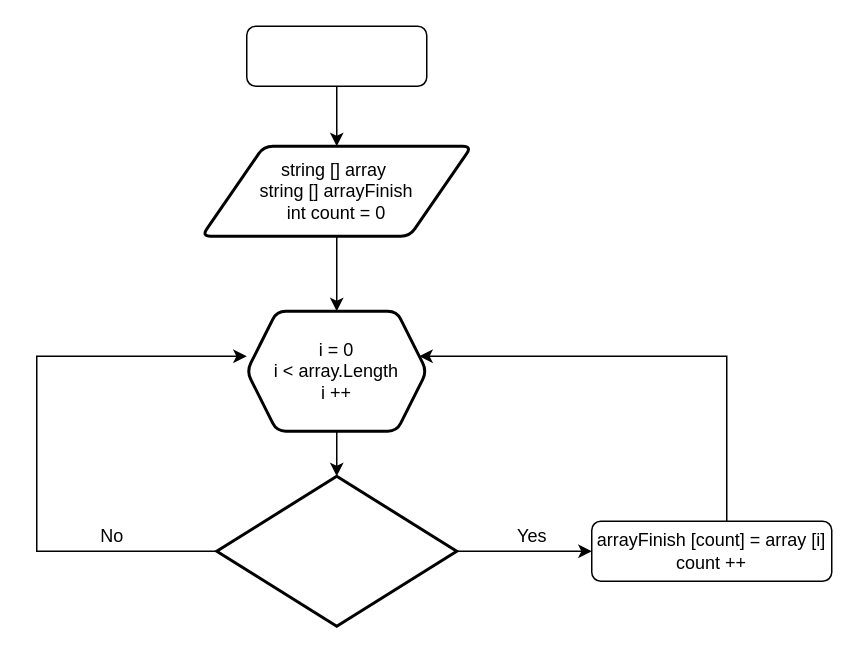
Some shapes in this 858 by 654 pixel diagram are drawn without their labels. Each missing label, with the box of its shape:
array.Length <= 3: (214, 474, 458, 627)
SecondArray: (245, 25, 427, 86)
